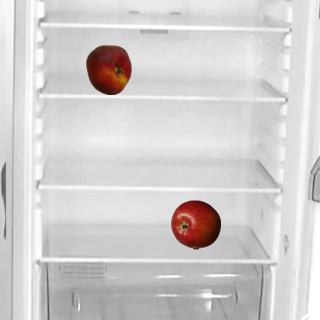Apple Braeburn: (170, 199, 220, 249)
Nectarine Flat: (83, 44, 133, 94)
